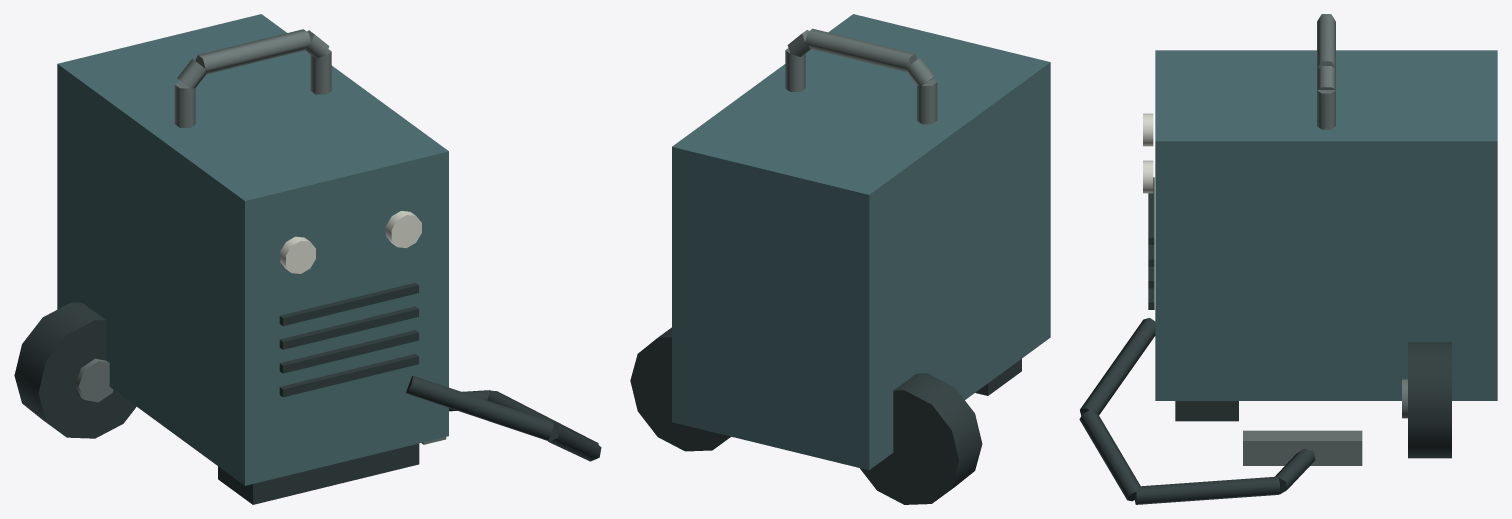
3 views of the same model, side by side, from view 1: azimuth 30°, elevation 25°; view 2: azimuth 150°, elevation 25°; view 3: azimuth 270°, elevation 25° (orthographic). The views are drawn at different scales.
Visible parts, largest first — view 1: part-1, part-2, part-6, part-18, part-9, part-14, part-13, part-15, part-12, part-3, part-19, part-16 (+4 smaller); view 2: part-1, part-2, part-4, part-9, part-7, part-11, part-6, part-8; view 3: part-1, part-4, part-22, part-20, part-18, part-19, part-6, part-9, part-21, part-11.
Boxes of the visible parts, <box> form: part-1: <box>57,14,448,485</box>; part-2: <box>14,302,136,438</box>; part-6: <box>218,443,419,504</box>; part-18: <box>406,375,553,440</box>; part-9: <box>195,29,311,74</box>; part-14: <box>279,306,418,349</box>; part-13: <box>279,330,418,373</box>; part-15: <box>279,282,418,325</box>; part-12: <box>279,354,418,397</box>; part-3: <box>75,358,113,402</box>; part-19: <box>546,421,601,461</box>; part-16: <box>280,236,315,273</box>; part-1: <box>672,14,1050,470</box>; part-2: <box>860,373,982,504</box>; part-4: <box>630,327,730,451</box>; part-9: <box>805,28,917,72</box>; part-7: <box>917,79,937,124</box>; part-11: <box>785,48,805,91</box>; part-6: <box>975,359,1021,395</box>; part-8: <box>906,57,934,85</box>; part-1: <box>1155,50,1497,400</box>; part-4: <box>1408,342,1451,458</box>; part-22: <box>1243,430,1362,465</box>; part-20: <box>1134,476,1280,504</box>; part-18: <box>1080,318,1155,415</box>; part-19: <box>1079,409,1140,501</box>; part-6: <box>1175,401,1238,421</box>; part-9: <box>1317,14,1335,68</box>; part-21: <box>1275,448,1315,494</box>; part-11: <box>1317,90,1335,129</box>.
Size of the model in its own units: 0.5461 by 0.5054 by 0.5256.
